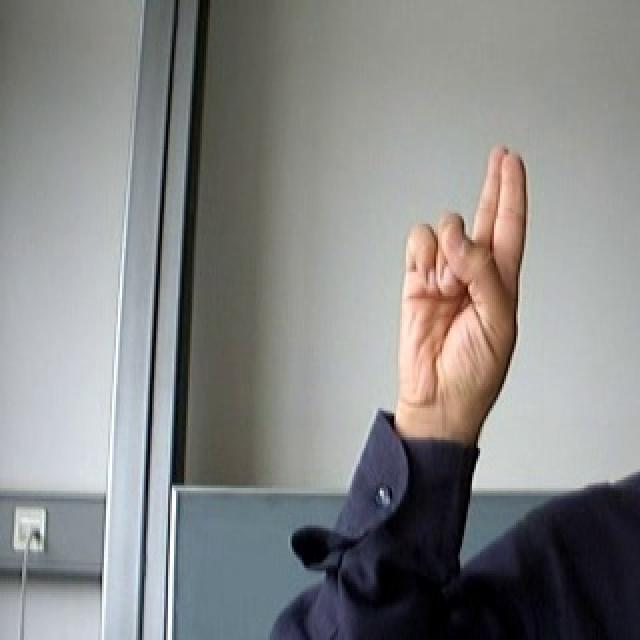R: (371, 126, 556, 454)
